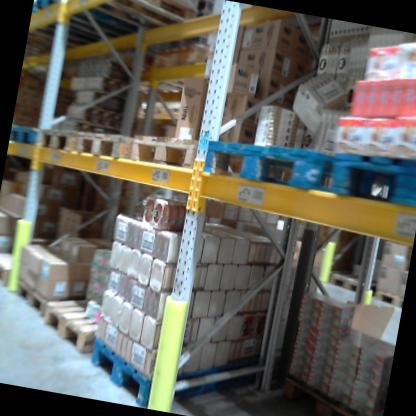pallet: (79, 300, 288, 416), (200, 125, 342, 200), (5, 260, 113, 337), (326, 136, 416, 214), (33, 282, 114, 366), (28, 0, 151, 52), (272, 368, 383, 416), (64, 0, 206, 37), (130, 123, 213, 178), (73, 118, 142, 170), (325, 258, 387, 305), (36, 114, 85, 158), (0, 243, 36, 292), (9, 120, 43, 150), (370, 281, 405, 309)
